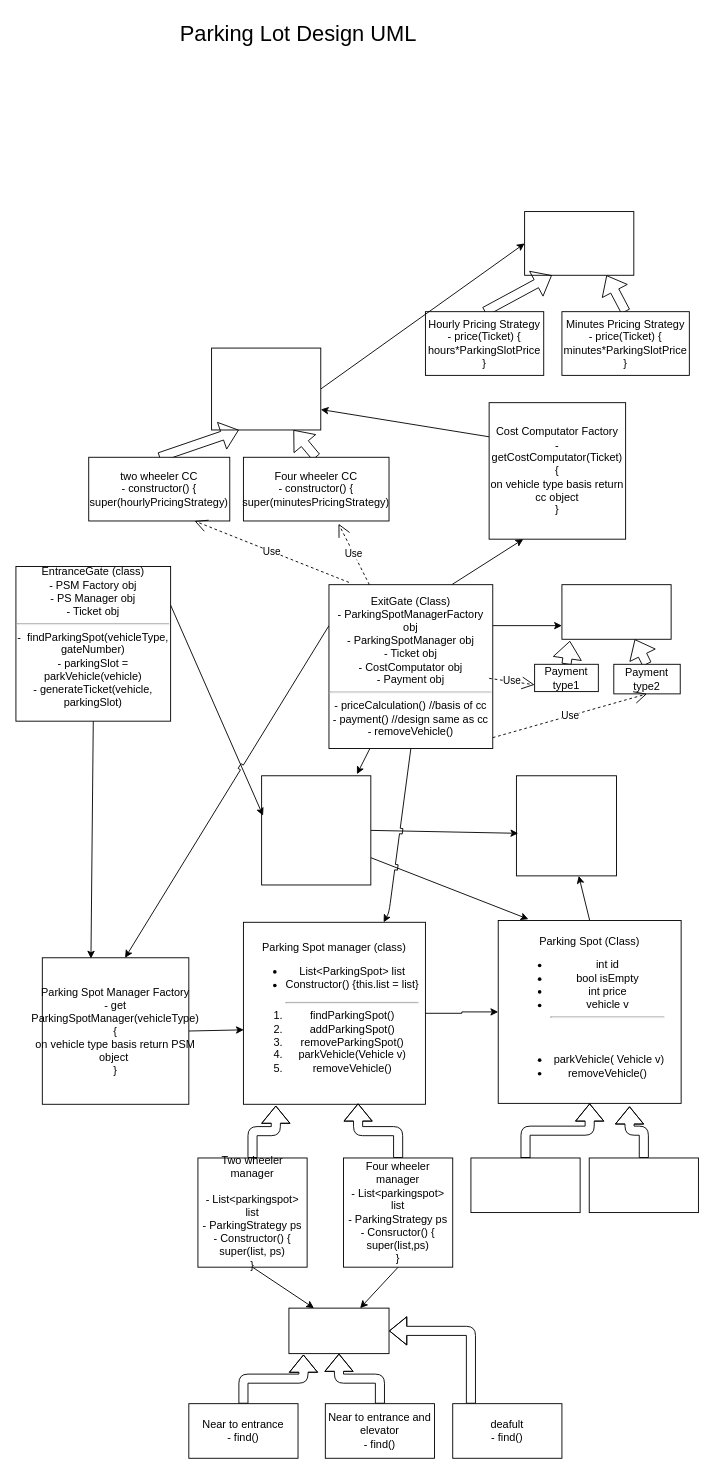
This 714x1474 diagram has some shape labels left out. The shapes that lost their labels are listed below. From the top down, each one's centre as x and y in pixels, then its label:
At pixel 579 243: "Pricing Strategy - Price(Ticket) { return ParkingSlotPrice; }".
At pixel 266 388: "Cost Computator - PricingStrategy obj - Price() { obj.price }".
At pixel 616 611: "Payment (design same as cc)".
At pixel 316 830: "Ticket (class) - long entrytime - Vehicle v - ParkingSpot ps".
At pixel 566 825: "Vehicle (class) - int vehicleNumber - Enum vehicleType".
At pixel 525 1185: "Two Wheeler Spot override - price".
At pixel 643 1185: "Four Wheeler Spot override - price".
At pixel 338 1330: "Parking Strategy".
